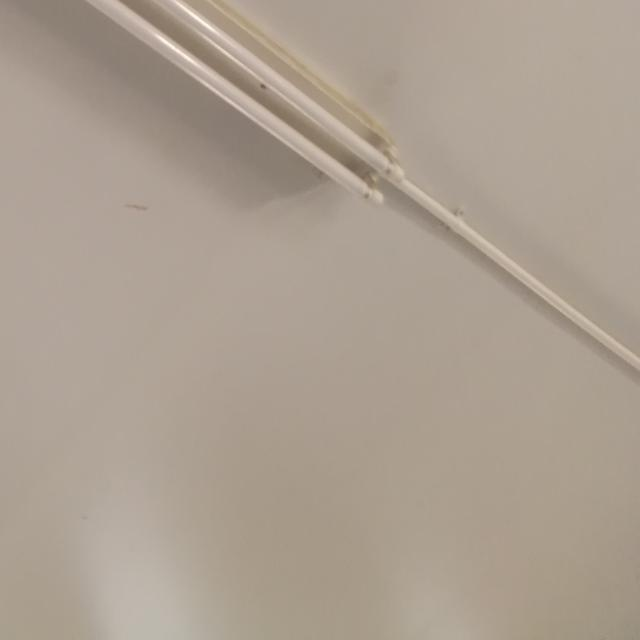fluorescent tube: (0, 0, 421, 265)
